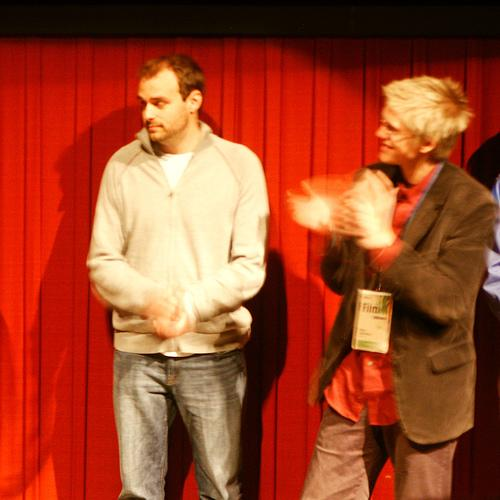person: (284, 73, 500, 500)
